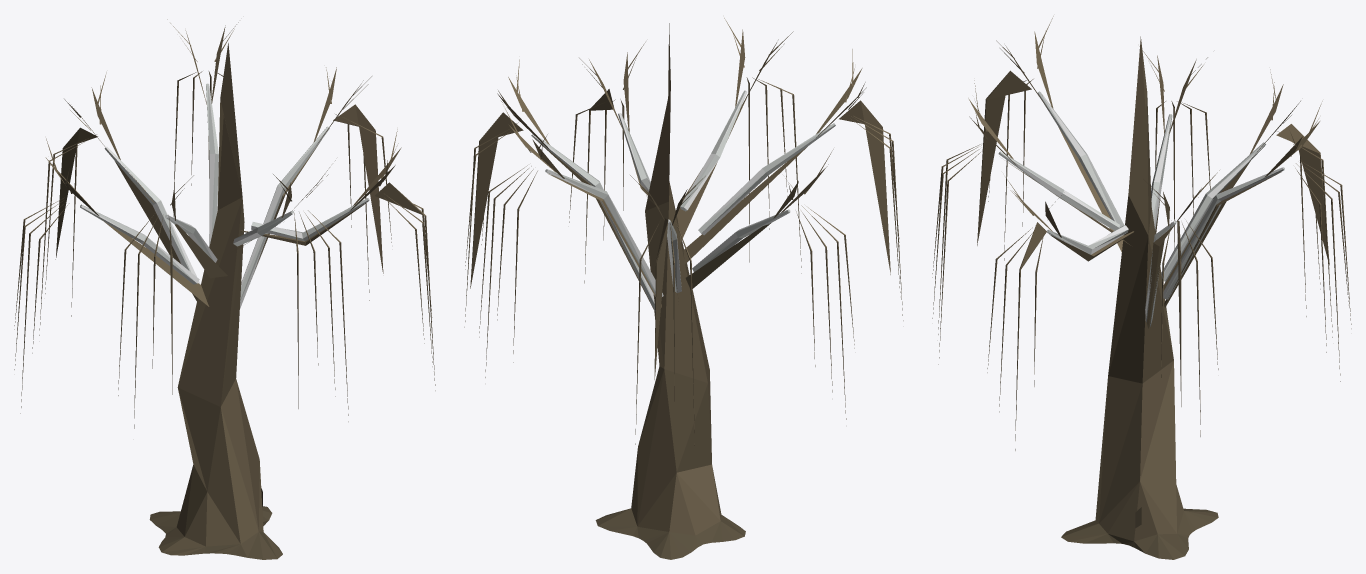
File: willow_winter.glb
The picture shows the model from 3 angles, left to right: view 1: azimuth 30°, elevation 25°; view 2: azimuth 150°, elevation 25°; view 3: azimuth 270°, elevation 25°; orthographic projection.
Parts seen in each view (by area): view 1: branches, snow; view 2: branches, snow; view 3: branches, snow.
Boxes of the visible parts, x1,y1,x2,y2 form: branches: [14, 19, 435, 559]; snow: [80, 83, 369, 308]; branches: [464, 18, 903, 559]; snow: [531, 90, 835, 311]; branches: [932, 16, 1351, 559]; snow: [998, 91, 1284, 326].
Bounding box in the file's own units: 3.38 × 4.33 × 3.32.
